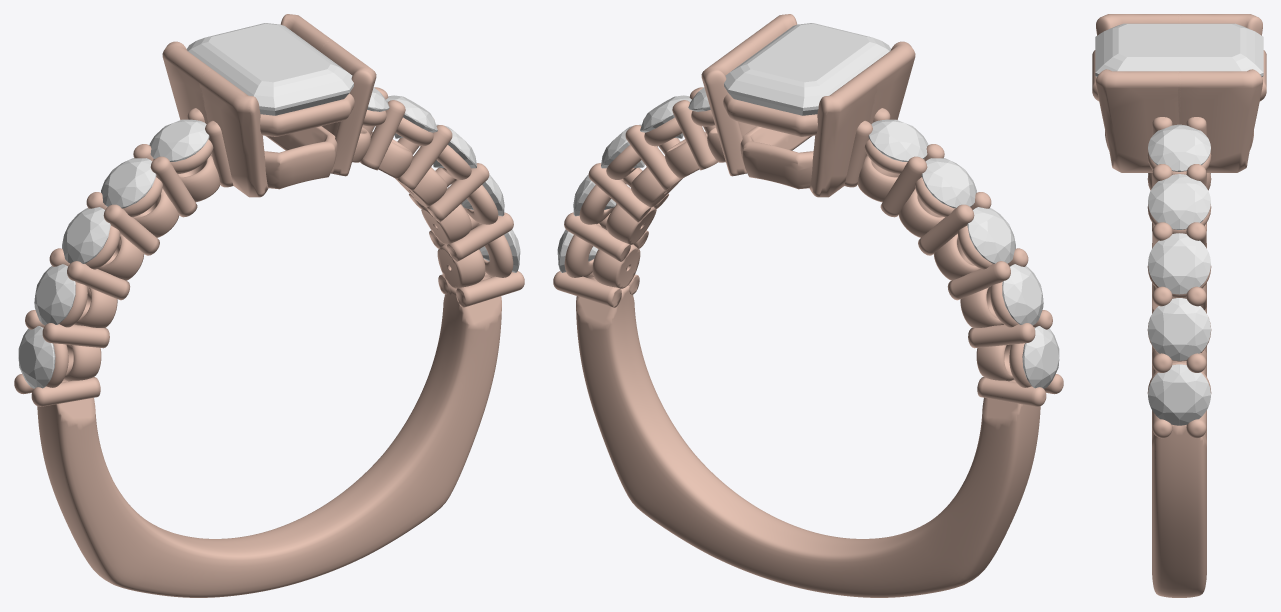
Rendered from diamond-emerald-rosegold-halfmoonbezel-europeanshank-11stone.glb.
3 views of the same model, side by side, from view 1: azimuth 30°, elevation 25°; view 2: azimuth 150°, elevation 25°; view 3: azimuth 270°, elevation 25° (orthographic).
Parts seen in each view (by area): view 1: metal.003, stone.002, side.024, side.025, side.023, side.026, side.002, side.028; view 2: metal.003, stone.002, side.024, side.025, side.023, side.026, side.002, side.028; view 3: metal.003, stone.002, side.030, side.031, side.029, side.028, side.027.
Part boxes in pixels (<box>): metal.003: <box>14,14,524,597</box>; stone.002: <box>187,23,353,115</box>; side.024: <box>62,207,110,263</box>; side.025: <box>101,158,156,208</box>; side.023: <box>34,264,75,325</box>; side.026: <box>149,119,209,161</box>; side.002: <box>18,326,55,388</box>; side.028: <box>386,95,437,138</box>; metal.003: <box>553,14,1063,597</box>; stone.002: <box>724,23,890,115</box>; side.024: <box>967,207,1015,263</box>; side.025: <box>921,158,976,208</box>; side.023: <box>1002,264,1043,325</box>; side.026: <box>868,119,928,161</box>; side.002: <box>1022,326,1059,388</box>; side.028: <box>640,95,691,138</box>; metal.003: <box>1092,14,1266,597</box>; stone.002: <box>1095,23,1263,76</box>; side.030: <box>1148,298,1210,360</box>; side.031: <box>1148,364,1210,425</box>; side.029: <box>1148,233,1210,294</box>; side.028: <box>1148,174,1210,229</box>; side.027: <box>1148,124,1210,171</box>.
Size of the model in its own units: 22.03 by 22.74 by 6.94.
